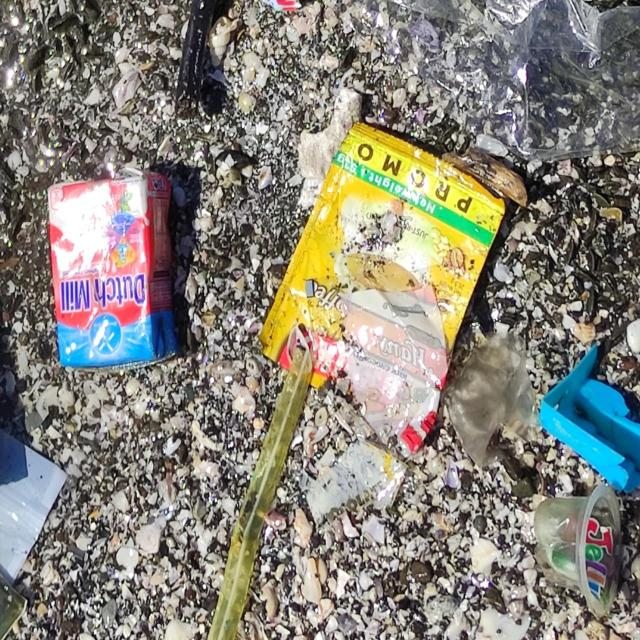cardboard_waste: (51, 176, 185, 376)
plastic_waste: (264, 120, 514, 456), (196, 350, 318, 640), (1, 402, 67, 640), (213, 1, 330, 15), (251, 1, 309, 14)
